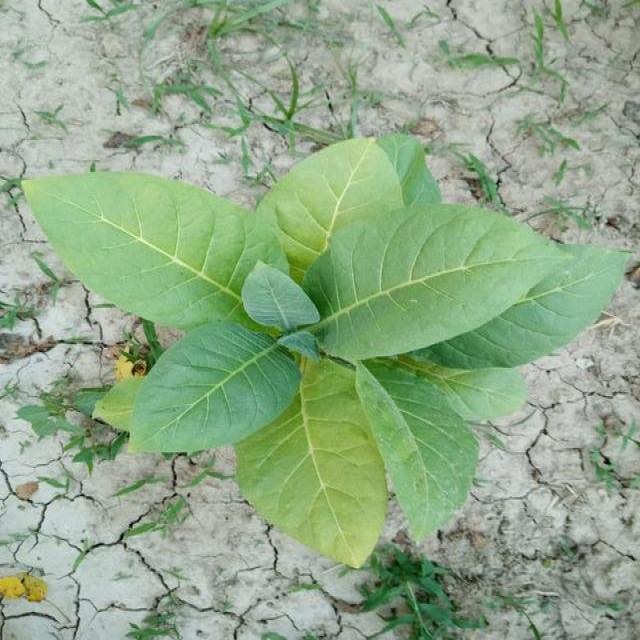crop: (9, 150, 630, 555)
